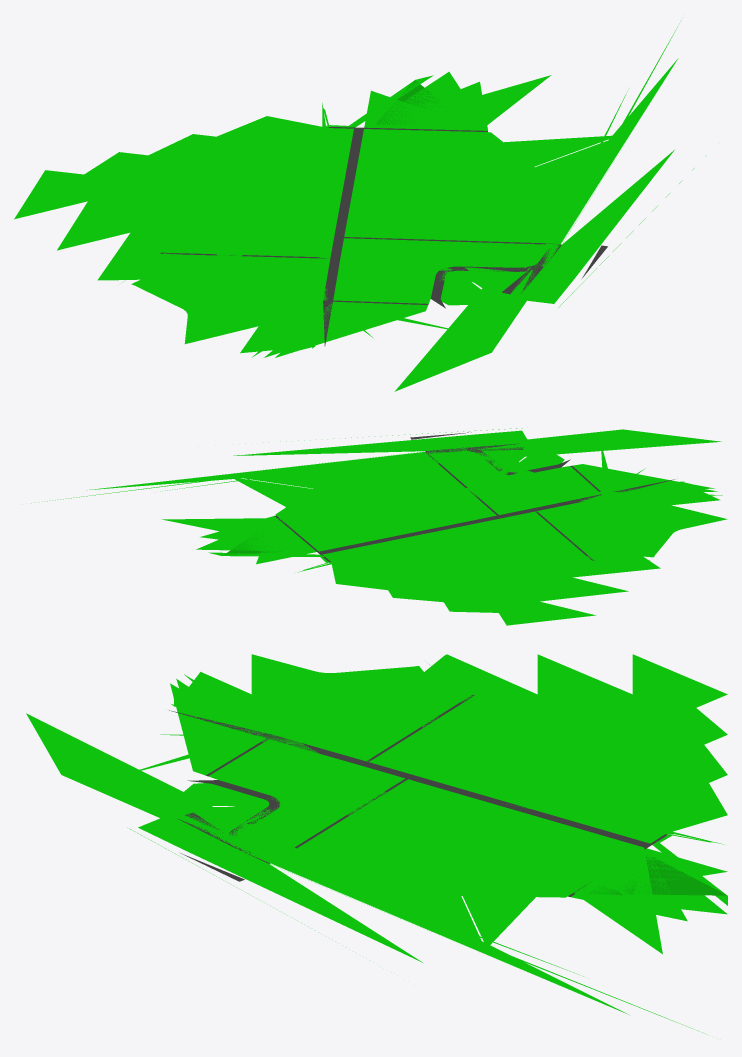
The picture shows the model from 3 angles, top to bottom: view 1: azimuth 30°, elevation 25°; view 2: azimuth 150°, elevation 25°; view 3: azimuth 270°, elevation 25°; orthographic projection. The views are drawn at different scales.
Bounding box in the file's own units: 290 × 0 × 225.
